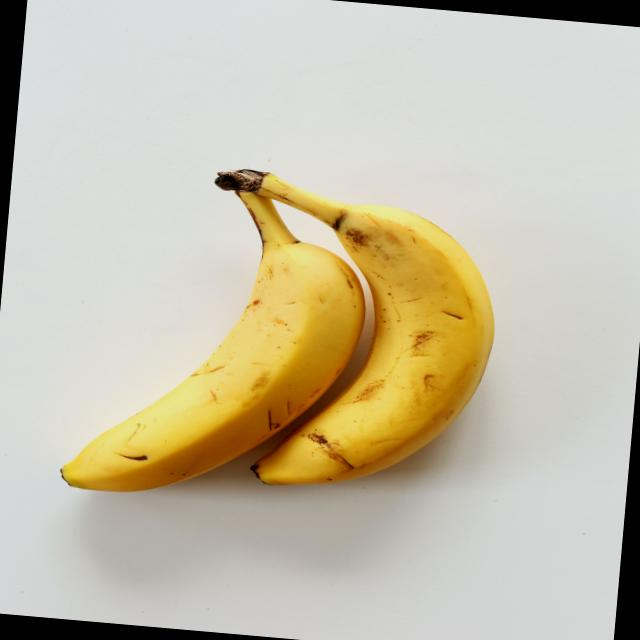banana: (42, 220, 366, 550), (240, 184, 514, 526)
